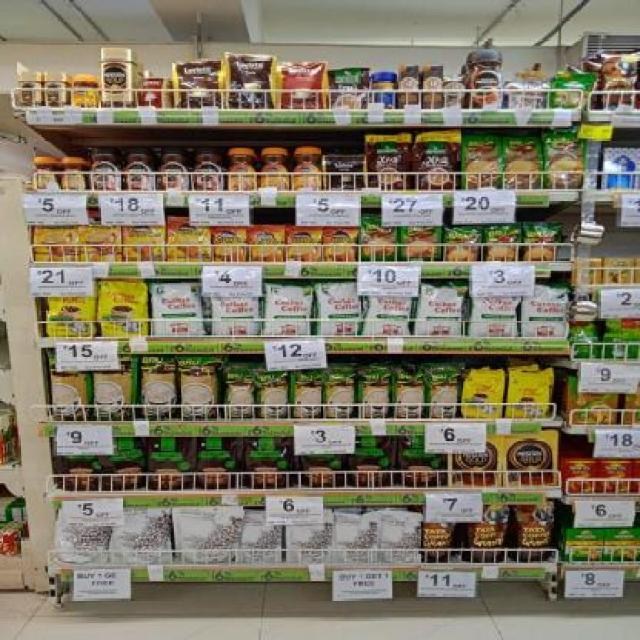Coffee: (34, 212, 80, 262), (468, 50, 503, 109), (166, 217, 210, 263), (100, 48, 132, 108), (82, 212, 120, 262), (124, 222, 164, 261), (122, 147, 156, 190), (157, 147, 190, 190), (89, 147, 122, 190), (292, 145, 322, 190), (192, 147, 223, 190), (226, 147, 257, 190), (249, 225, 285, 262), (260, 147, 290, 190), (212, 227, 248, 262), (288, 227, 320, 262), (324, 229, 356, 262), (31, 157, 58, 189), (71, 75, 97, 107), (60, 158, 86, 190), (43, 72, 66, 106), (18, 71, 39, 107)
